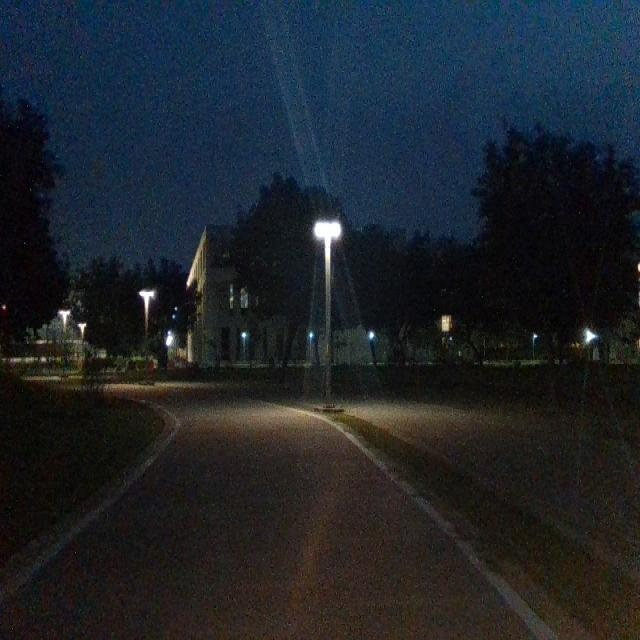lane: (1, 400, 540, 640)
